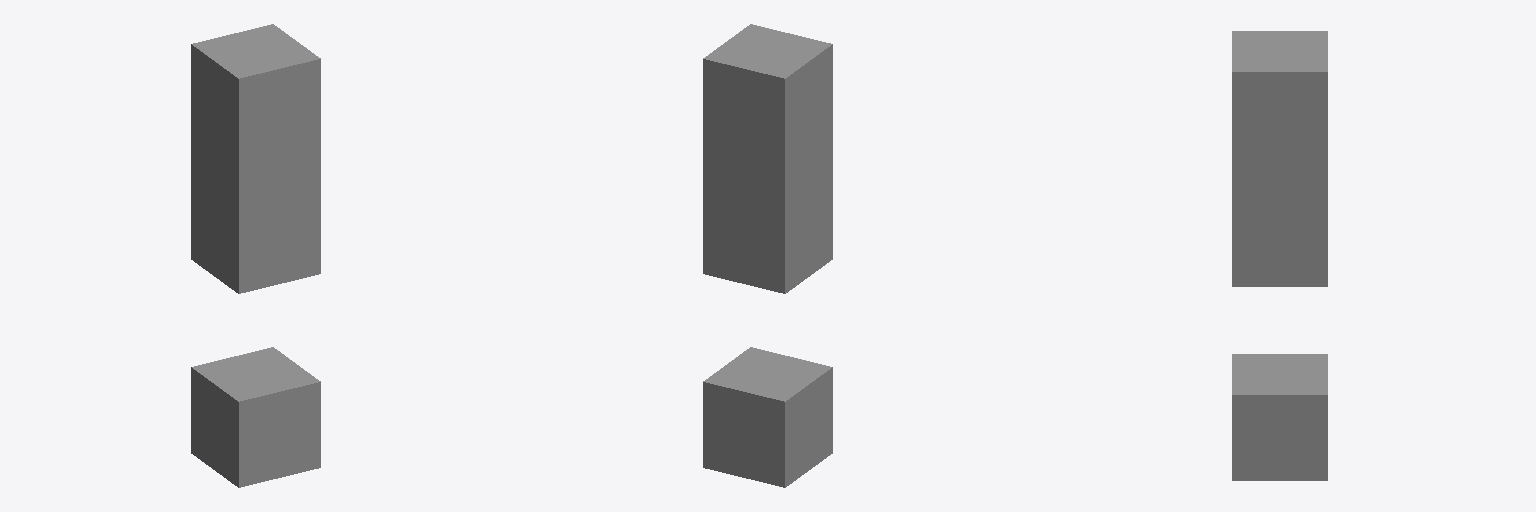
File: PanicParticle.obj
3 views of the same model, side by side, from view 1: azimuth 30°, elevation 25°; view 2: azimuth 150°, elevation 25°; view 3: azimuth 270°, elevation 25° (orthographic).
Visible parts, largest first — view 1: Top_Cube.001, Exclamation_Cube.002; view 2: Top_Cube.001, Exclamation_Cube.002; view 3: Top_Cube.001, Exclamation_Cube.002.
Boxes of the visible parts, x1=… form: Top_Cube.001: x1=191, y1=24, x2=320, y2=293; Exclamation_Cube.002: x1=191, y1=347, x2=320, y2=487; Top_Cube.001: x1=703, y1=24, x2=832, y2=293; Exclamation_Cube.002: x1=703, y1=347, x2=832, y2=487; Top_Cube.001: x1=1232, y1=31, x2=1327, y2=286; Exclamation_Cube.002: x1=1232, y1=354, x2=1327, y2=480.
Size of the model in its own units: 0.4001 by 1.9 by 0.4001.